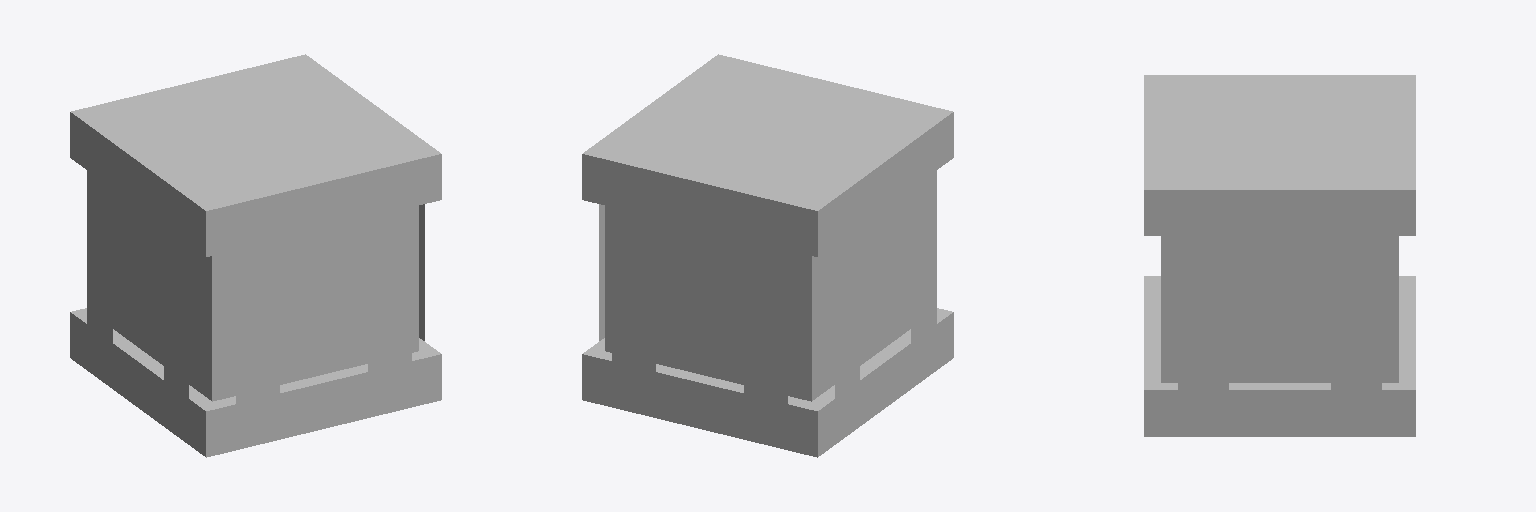
Rendered from conservecrate.obj.
The picture shows the model from 3 angles: view 1: azimuth 30°, elevation 25°; view 2: azimuth 150°, elevation 25°; view 3: azimuth 270°, elevation 25°; orthographic projection.
Visible parts, largest first — view 1: conservecrate; view 2: conservecrate; view 3: conservecrate.
Part boxes in pixels (x1,y1,x2,y2): conservecrate: (70, 54, 441, 457); conservecrate: (582, 54, 953, 457); conservecrate: (1144, 75, 1415, 436).
Bounding box in the file's own units: 1 × 1 × 1.